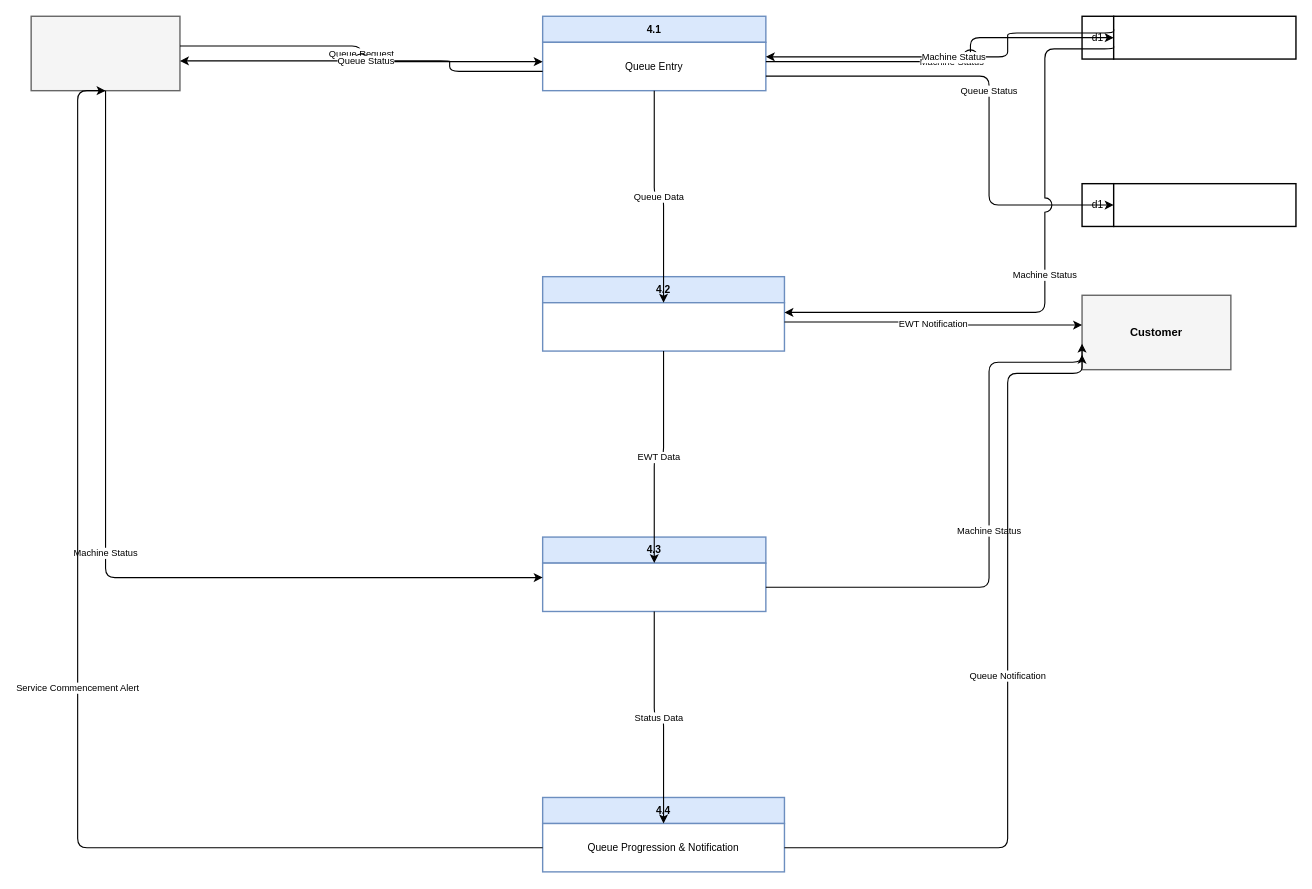
Image size: 1312x889. Some labels were removed from this diagram. Each missing label, with the centre of its shape:
"Predictive Wait-Time Calculation" belongs at [663,326].
"Real-Time Status Monitoring" belongs at [654,587].
"Staff" belongs at [105,53].
"tbl_machine_status" belongs at [1204,37].
"tbl_queue" belongs at [1204,205].
